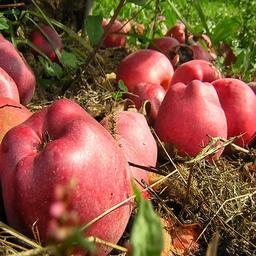apple: (2, 98, 135, 256), (153, 79, 227, 158), (113, 47, 174, 121), (211, 77, 256, 145)
